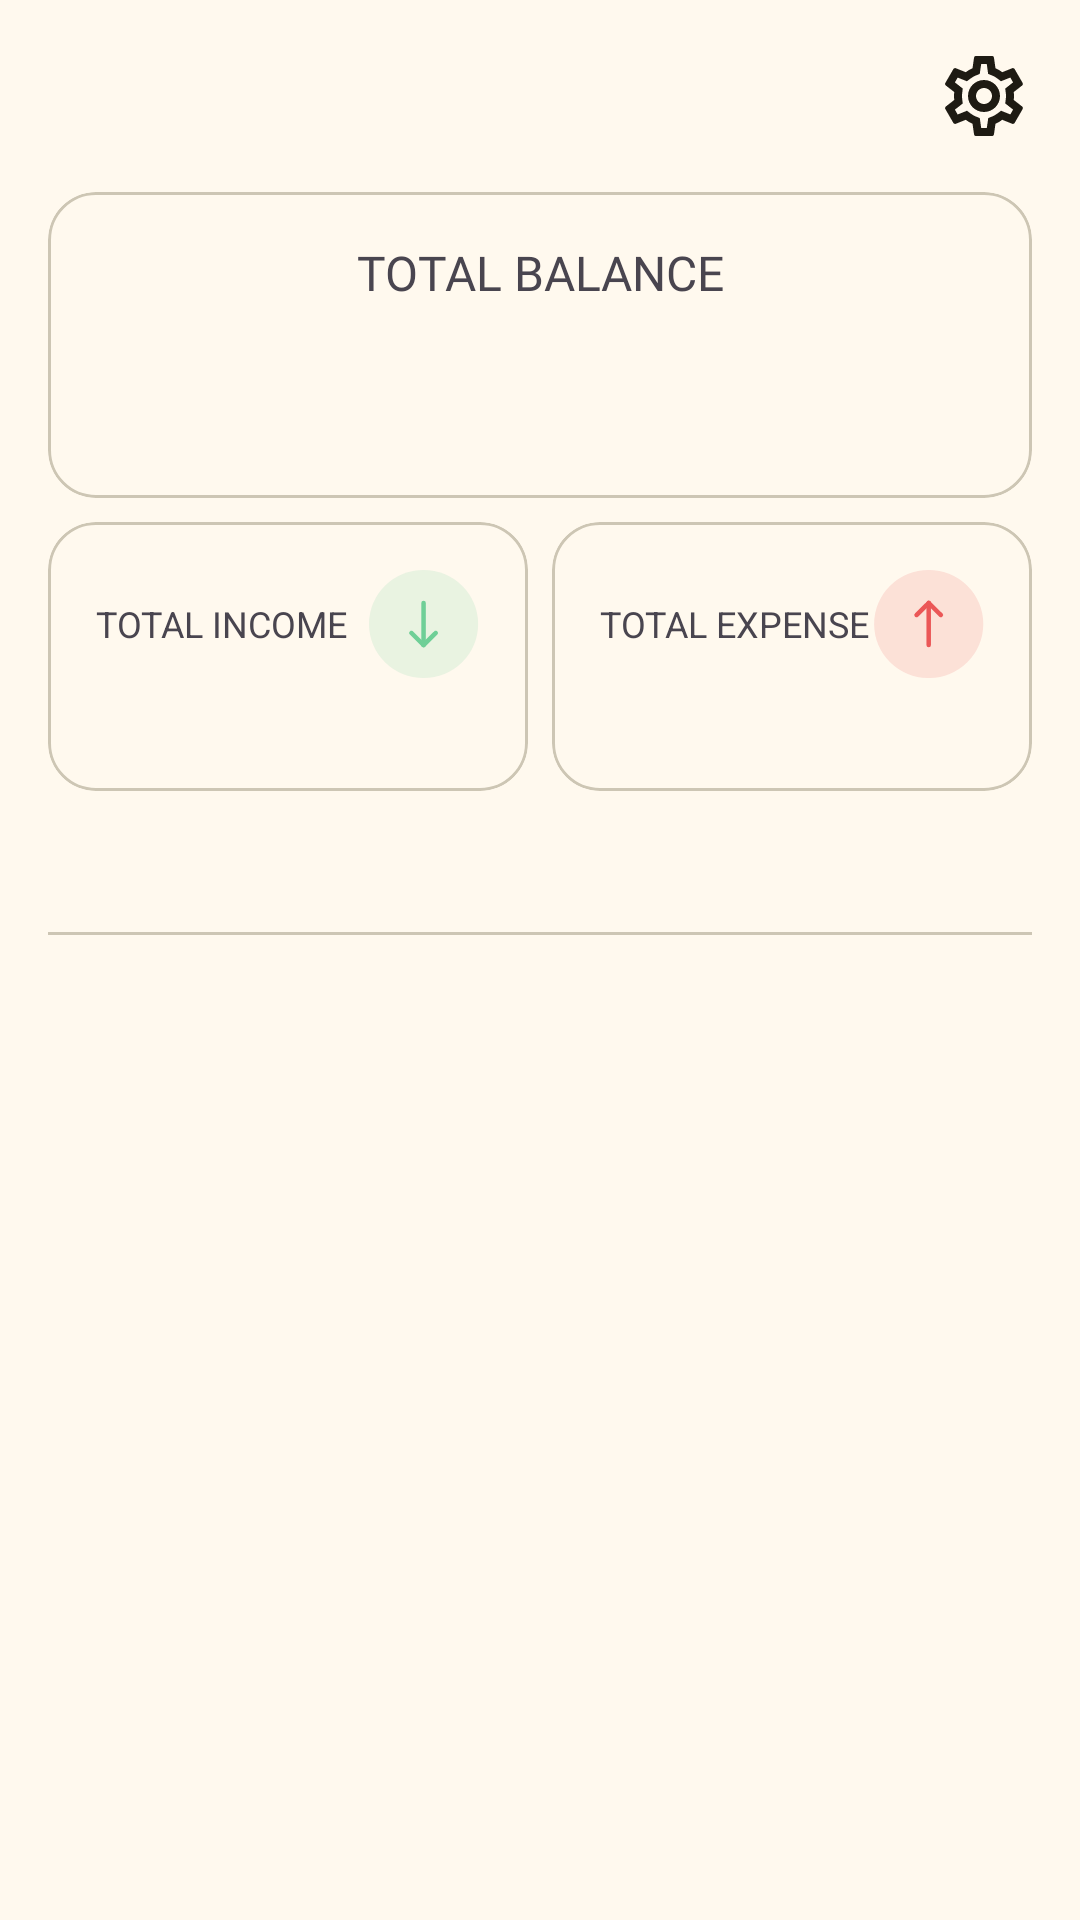

Screen size 1080px x 1920px. Icon name, then its box in pixels as box(x1, y1, x2, y2):
Settings: box(945, 56, 1023, 136)
